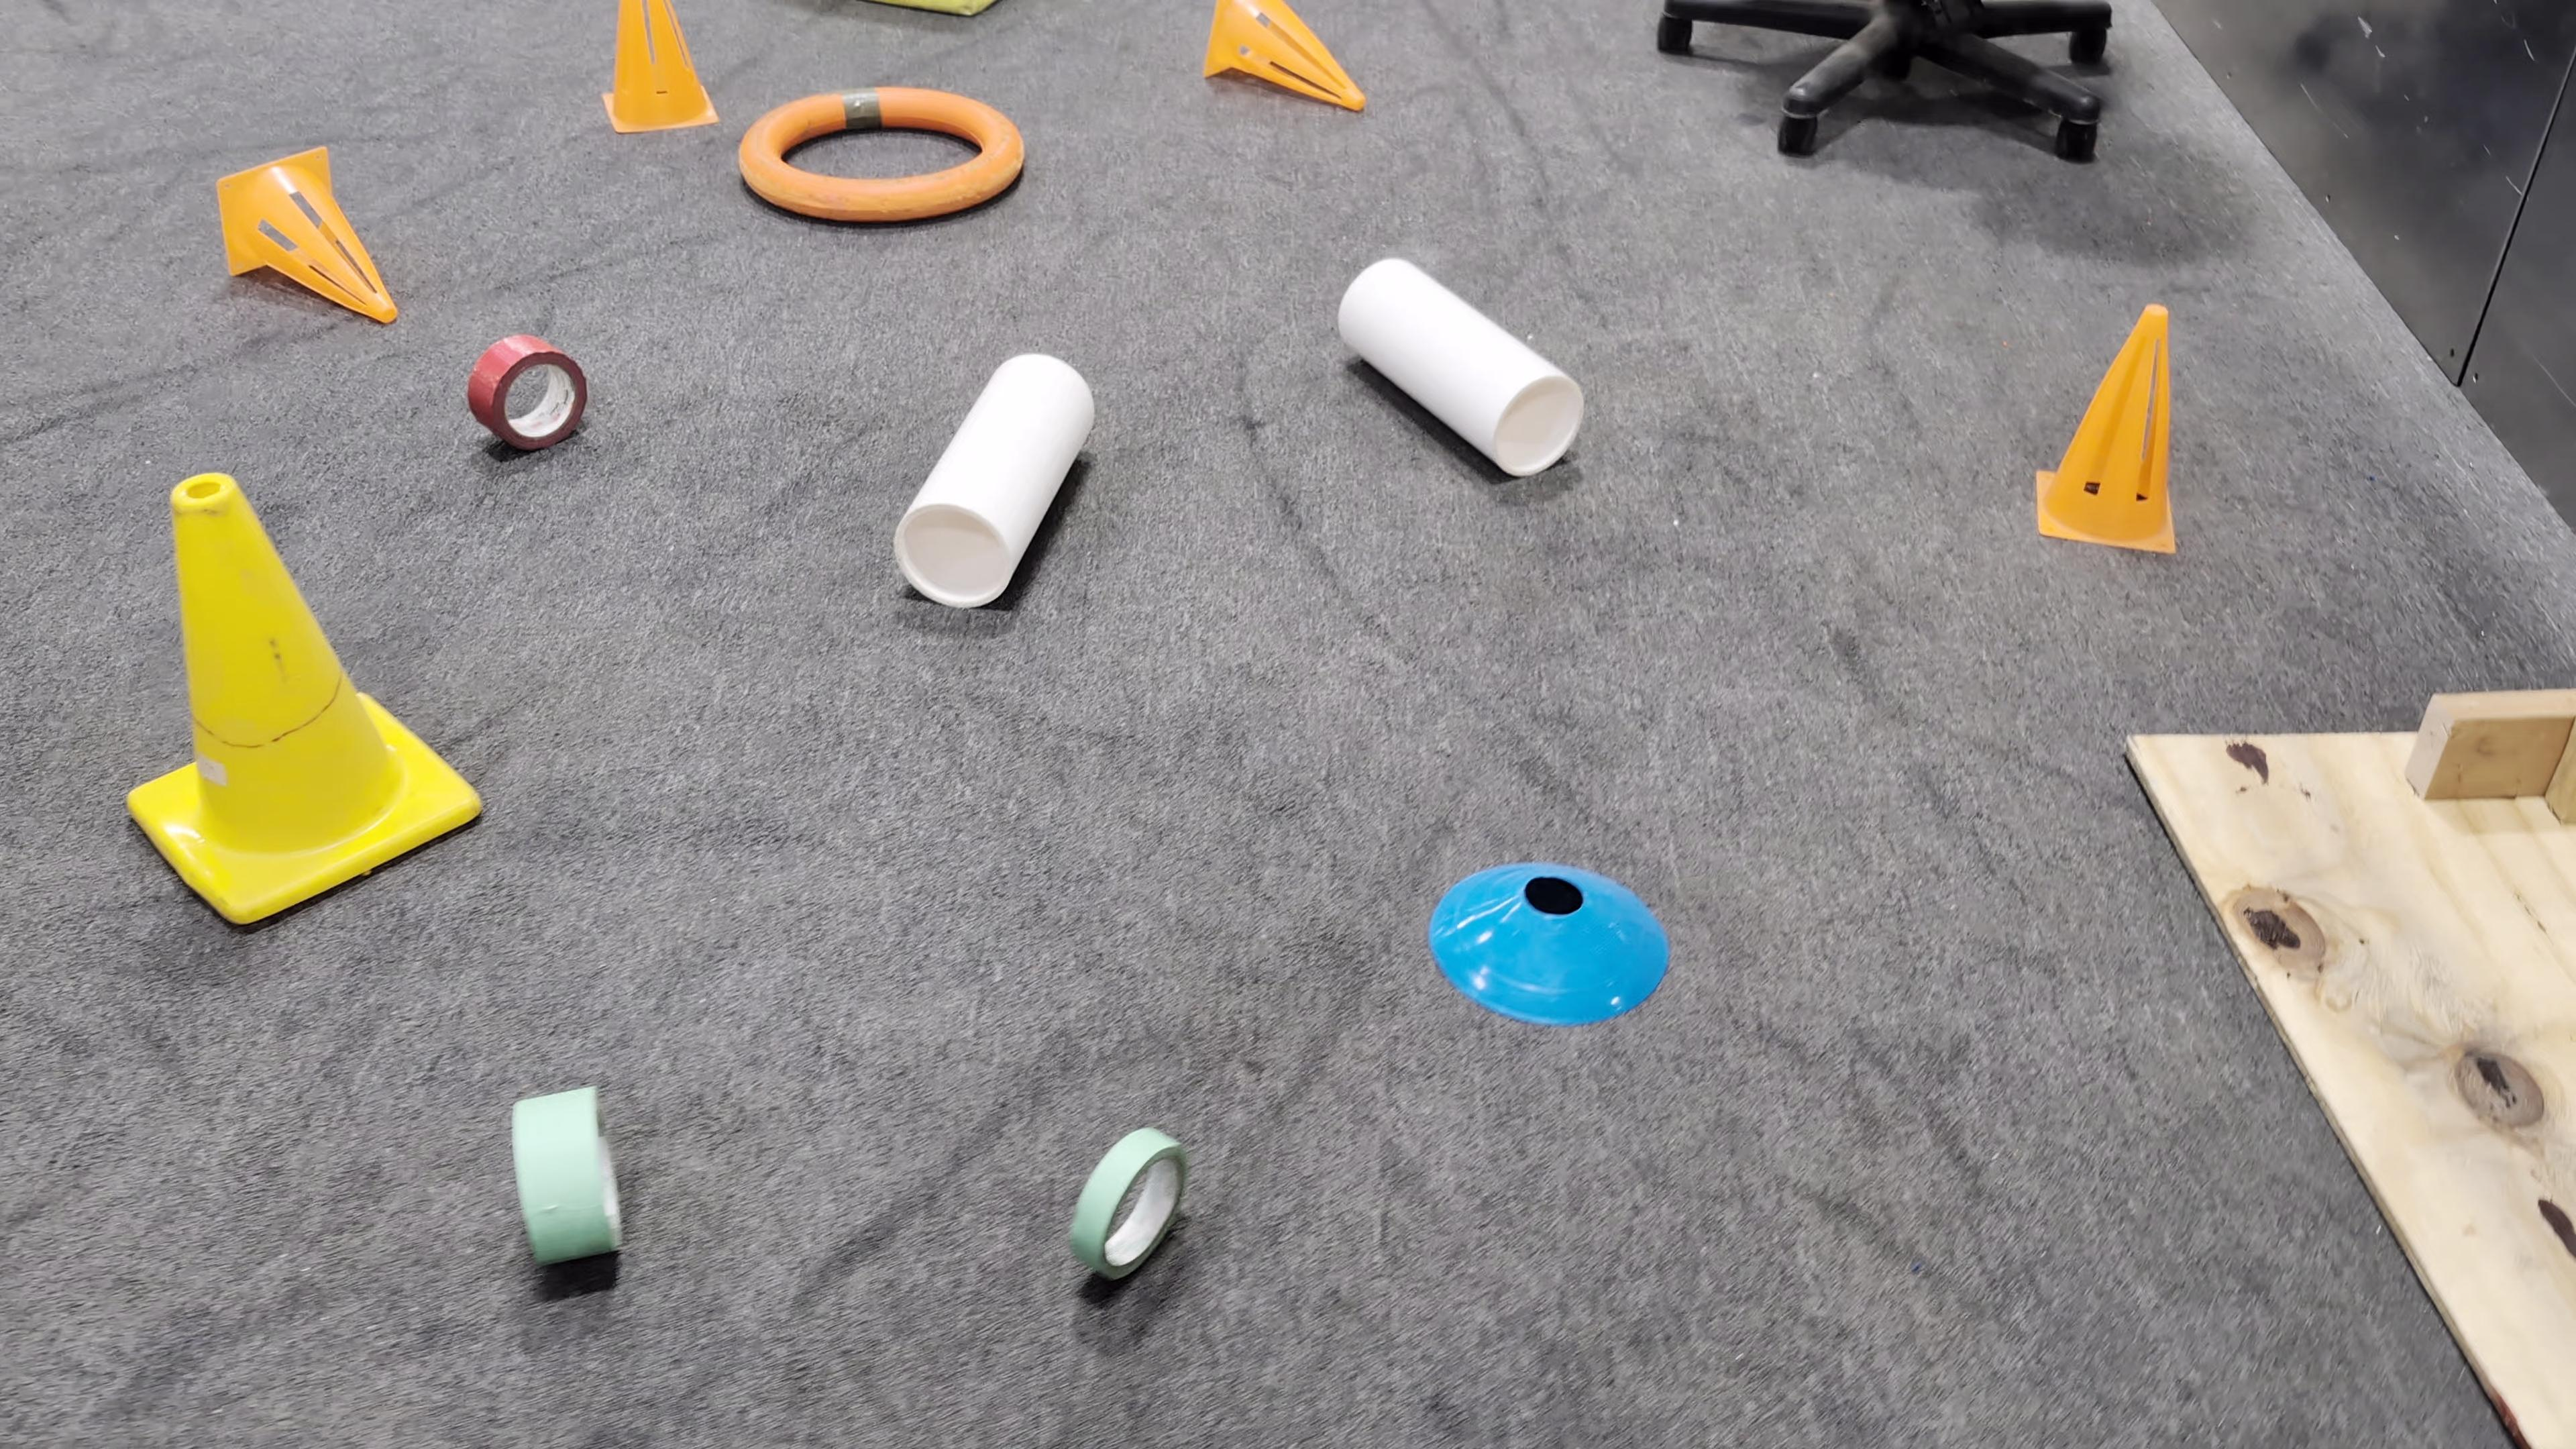coral: (1339, 258, 1580, 479), (893, 354, 1095, 609)
